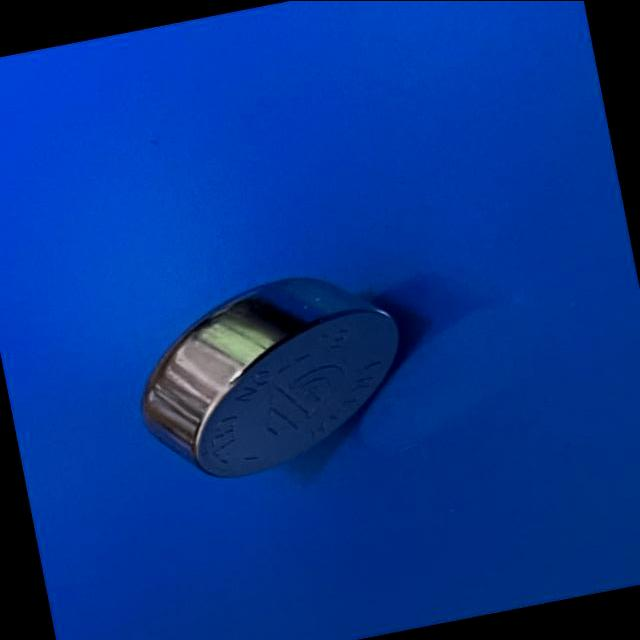COIN: (120, 261, 424, 494)
